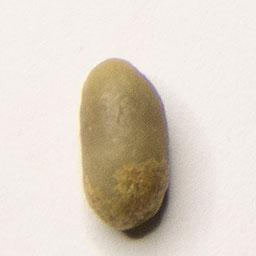longberry: (77, 53, 175, 232)
